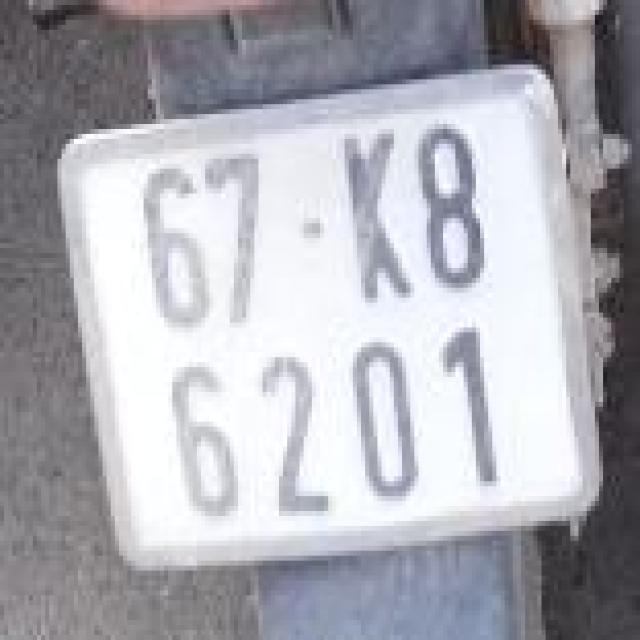0: (344, 332, 422, 506)
1: (437, 315, 507, 509)
2: (252, 350, 330, 523)
6: (134, 164, 212, 332), (164, 357, 238, 521)
7: (205, 149, 275, 332)
8: (406, 112, 492, 300)
K: (324, 119, 414, 308)
